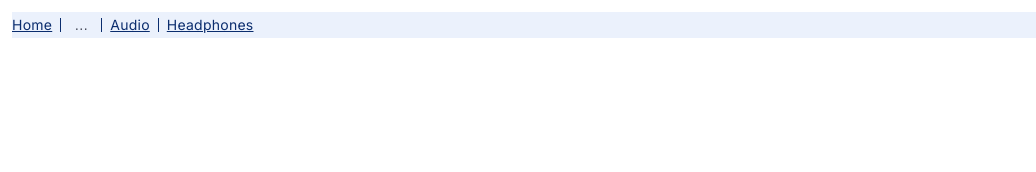
Test case: ThemedBreadcrumbs › collapses items into an ellipsis button and expands them on click
The width and height of the screenshot is (1036, 172).
expect the text "Catalog" is not shown: met
Click the button named "Show all breadcrumbs": (81, 25) 69,12 -> 93,38
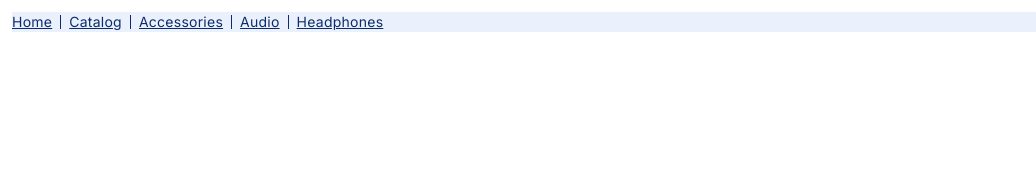
expect the link "Catalog" is shown: met, box 69,12 -> 122,32
